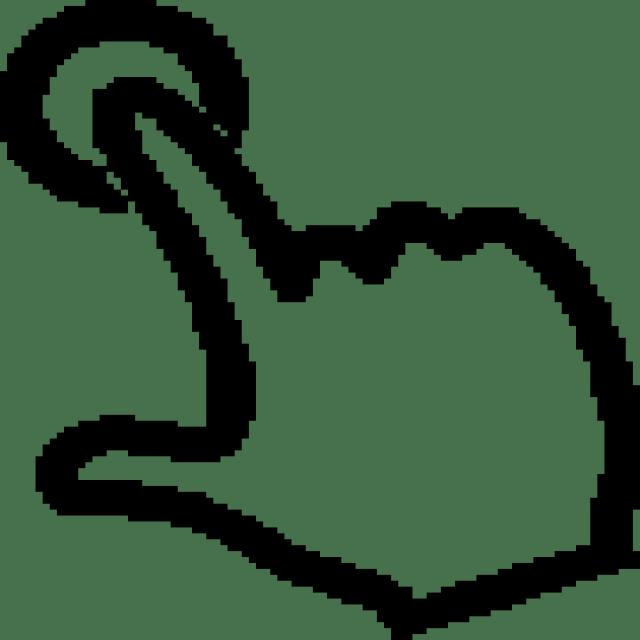Background Image: (0, 0, 633, 634)
